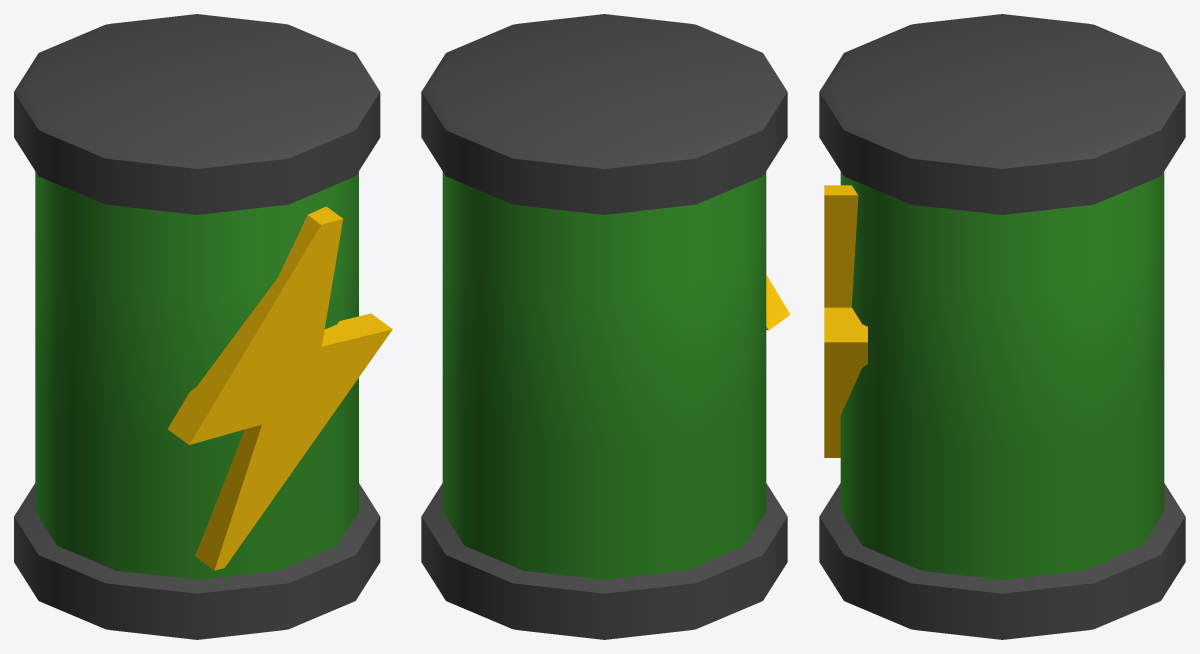
File: Energy_Green.fbx
3 views of the same model, side by side, from view 1: azimuth 30°, elevation 25°; view 2: azimuth 150°, elevation 25°; view 3: azimuth 270°, elevation 25° (orthographic).
Visible parts, largest first — view 1: Energy_Green; view 2: Energy_Green; view 3: Energy_Green.
Boxes of the visible parts, x1,y1,x2,y2 form: Energy_Green: (14, 14, 392, 639); Energy_Green: (421, 14, 790, 639); Energy_Green: (819, 14, 1185, 639).
Size of the model in its own units: 28.54 by 41.37 by 28.54.
